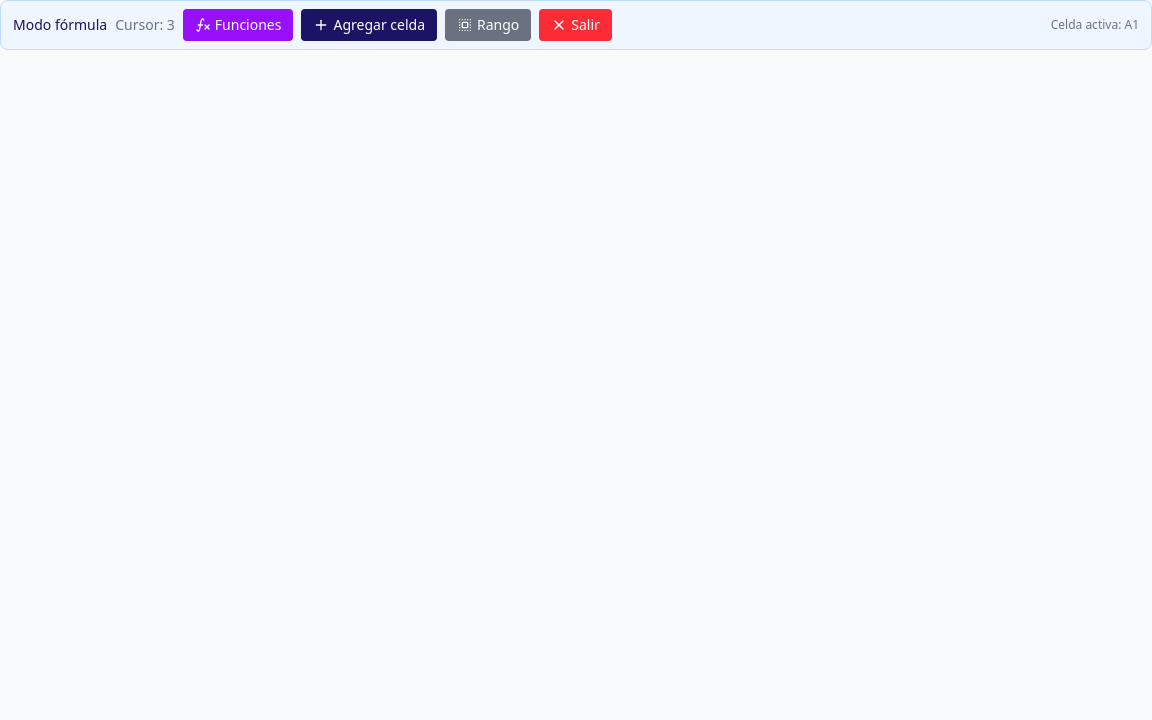
Test case: la barra del modo fórmula › dice qué hacer cuando el subtipo no tiene fórmulas asignadas
Click the button "Funciones": (238, 25) [183,9,293,41]
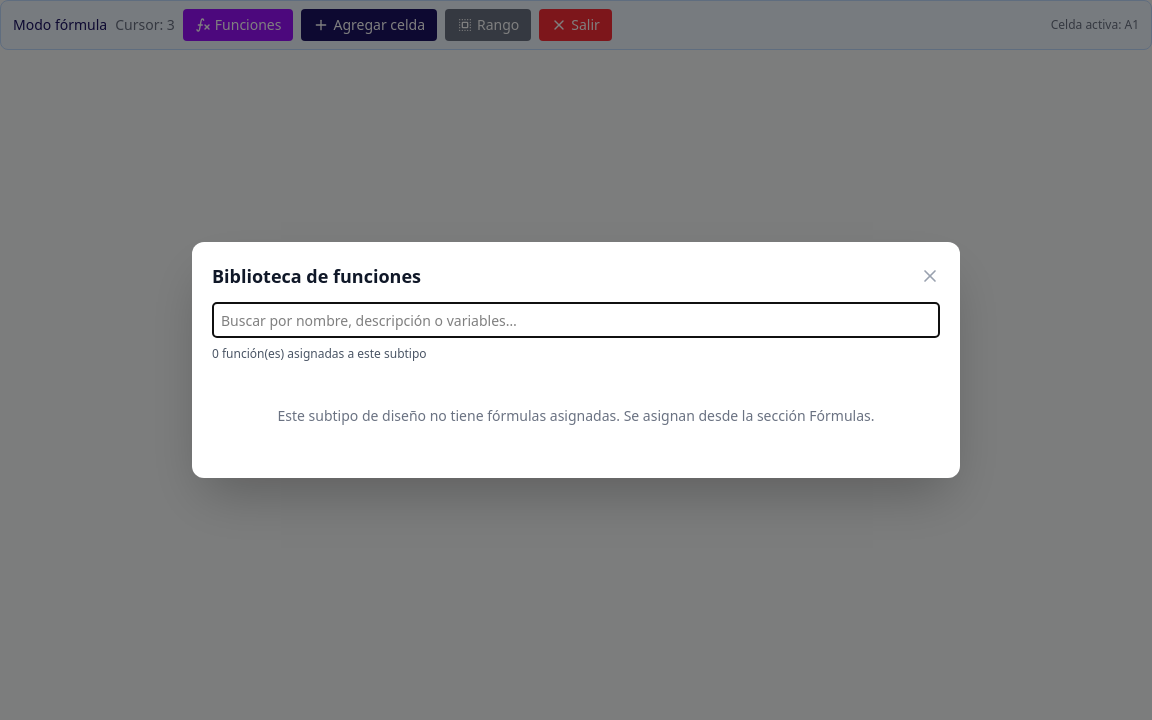
Check: the text "no tiene fórmulas asignadas" is shown, box [278,406,874,425]
